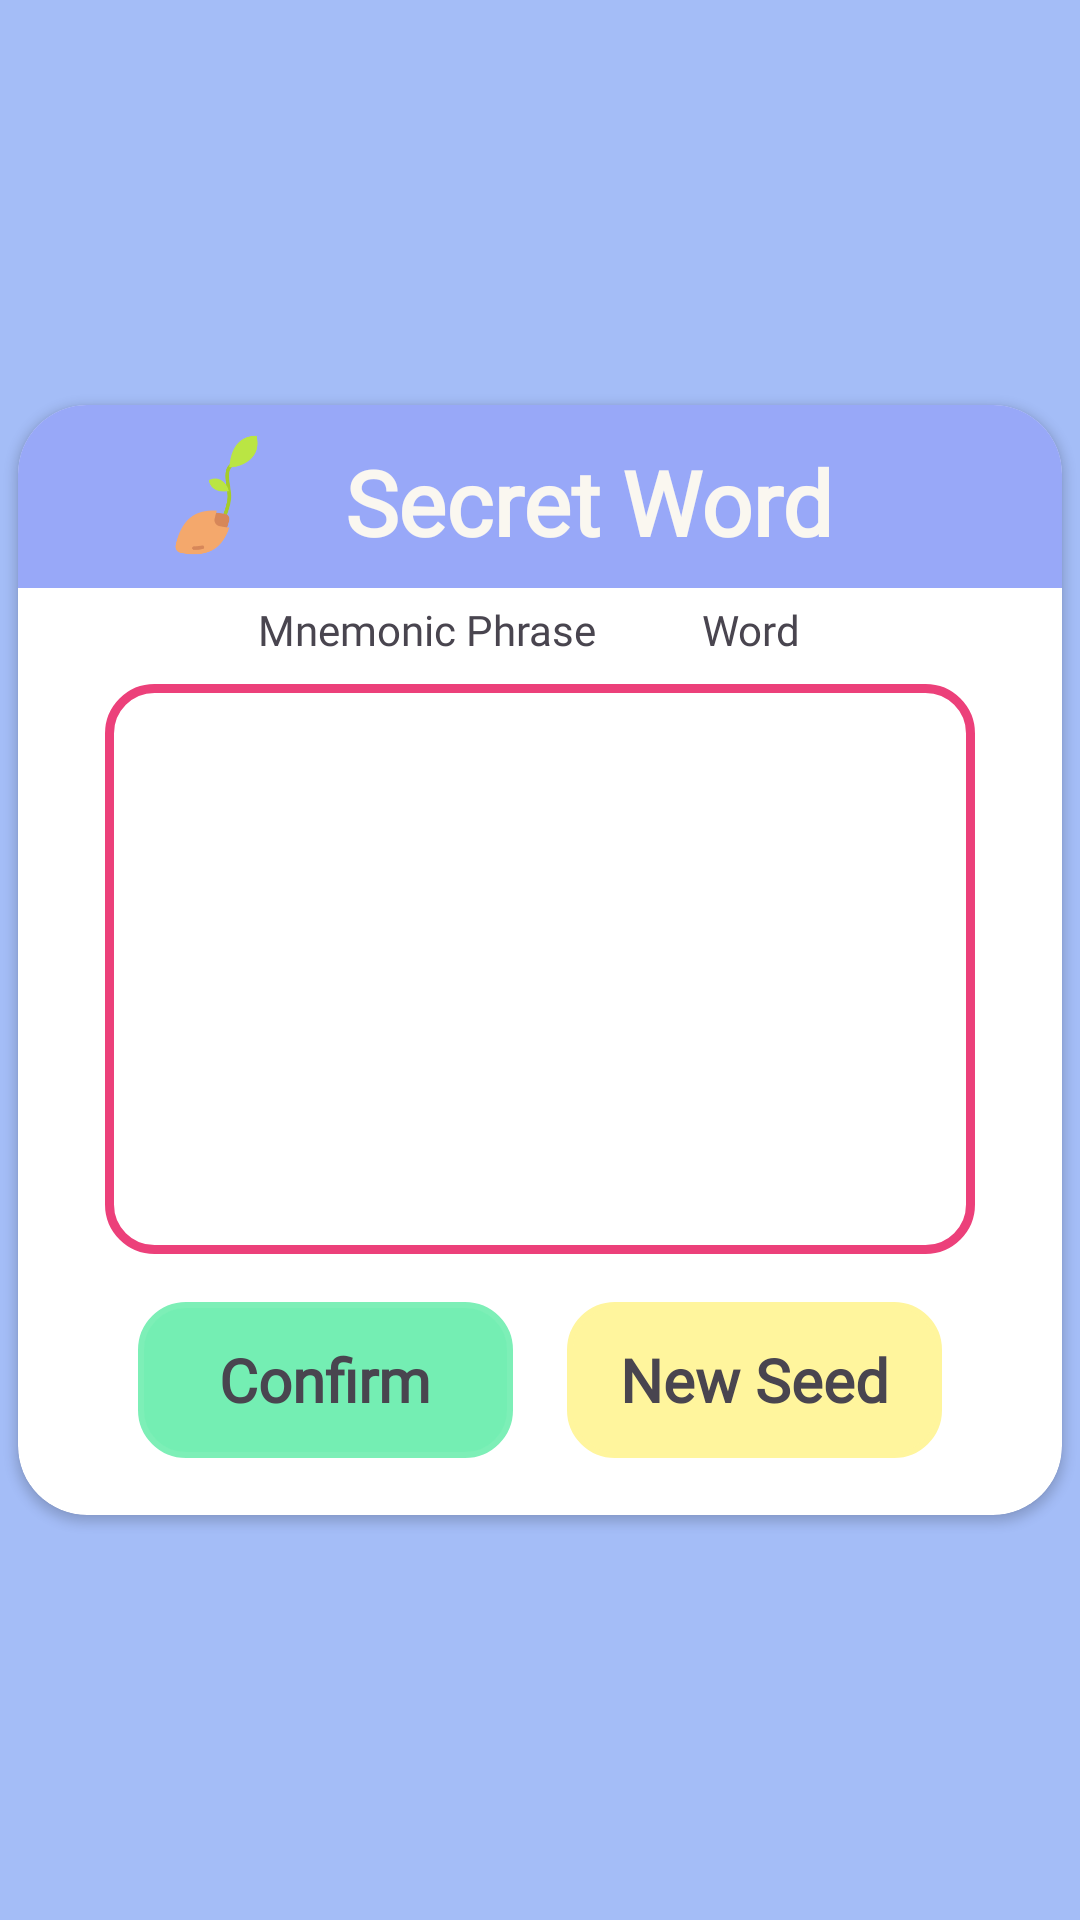

Screen size 1080×1920. Icon name, then its center in pixels as (x=x, y=y):
seed: (x=216, y=495)
